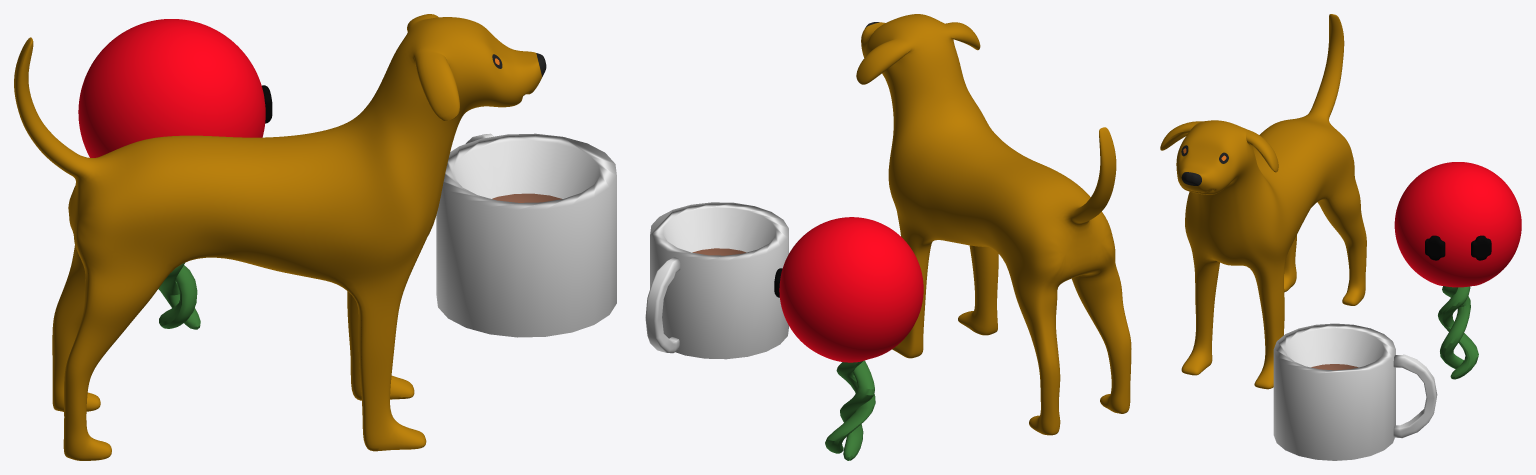
Rendered from Balançalazer.fbx.
3 renders of one model, left to right at view 1: azimuth 30°, elevation 25°; view 2: azimuth 150°, elevation 25°; view 3: azimuth 270°, elevation 25°, orthographic. The views are drawn at different scales.
Visible parts, largest first — view 1: Cylinder.011, Cube.145, Cube.148; view 2: Cylinder.011, Cube.145, Cube.148; view 3: Cylinder.011, Cube.145, Cube.148.
Boxes of the visible parts, left/top/right/bottom form: Cylinder.011: left=14, top=14, right=546, bottom=460; Cube.145: left=436, top=133, right=616, bottom=337; Cube.148: left=78, top=19, right=272, bottom=329; Cylinder.011: left=856, top=14, right=1131, bottom=435; Cube.145: left=645, top=202, right=788, bottom=359; Cube.148: left=774, top=217, right=923, bottom=460; Cylinder.011: left=1160, top=14, right=1366, bottom=389; Cube.145: left=1273, top=323, right=1437, bottom=460; Cube.148: left=1394, top=162, right=1521, bottom=379.
Size of the model in its own units: 440 by 297 by 346.
